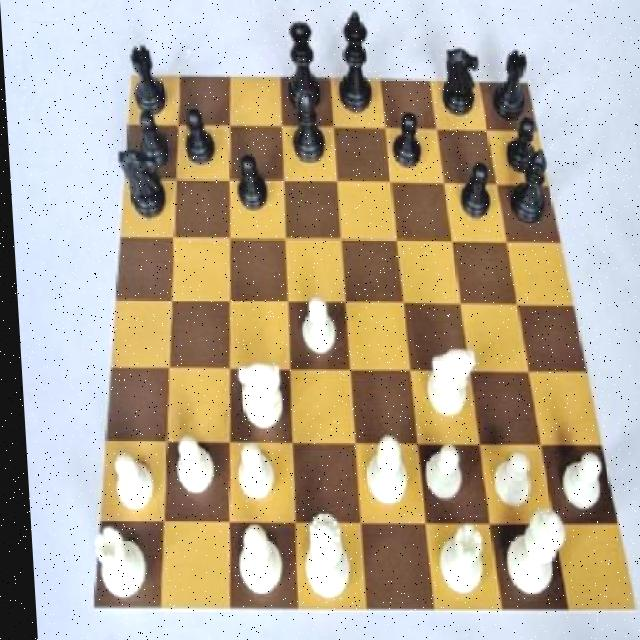bishop: (502, 148, 555, 228), (286, 86, 328, 170)
black-bishop: (333, 11, 375, 123)
black-king: (432, 43, 480, 125), (118, 148, 166, 226)
black-knight: (496, 108, 542, 179), (127, 105, 170, 177), (451, 155, 492, 223), (180, 100, 217, 171), (386, 111, 425, 178), (229, 156, 270, 210)
black-pawn: (282, 11, 322, 114)
black-queen: (484, 46, 535, 126), (124, 35, 171, 118)
black-rook: (226, 521, 284, 604), (354, 434, 407, 511)
white-bishop: (496, 509, 563, 593)
white-king: (412, 338, 472, 428), (232, 356, 283, 440)
white-knight: (549, 446, 601, 522), (414, 434, 467, 508), (166, 432, 214, 507), (288, 300, 340, 368), (226, 438, 273, 511), (480, 448, 530, 513), (106, 446, 153, 513)
white-pawn: (295, 512, 346, 602)
white-queen: (81, 523, 142, 605), (427, 526, 482, 602)
